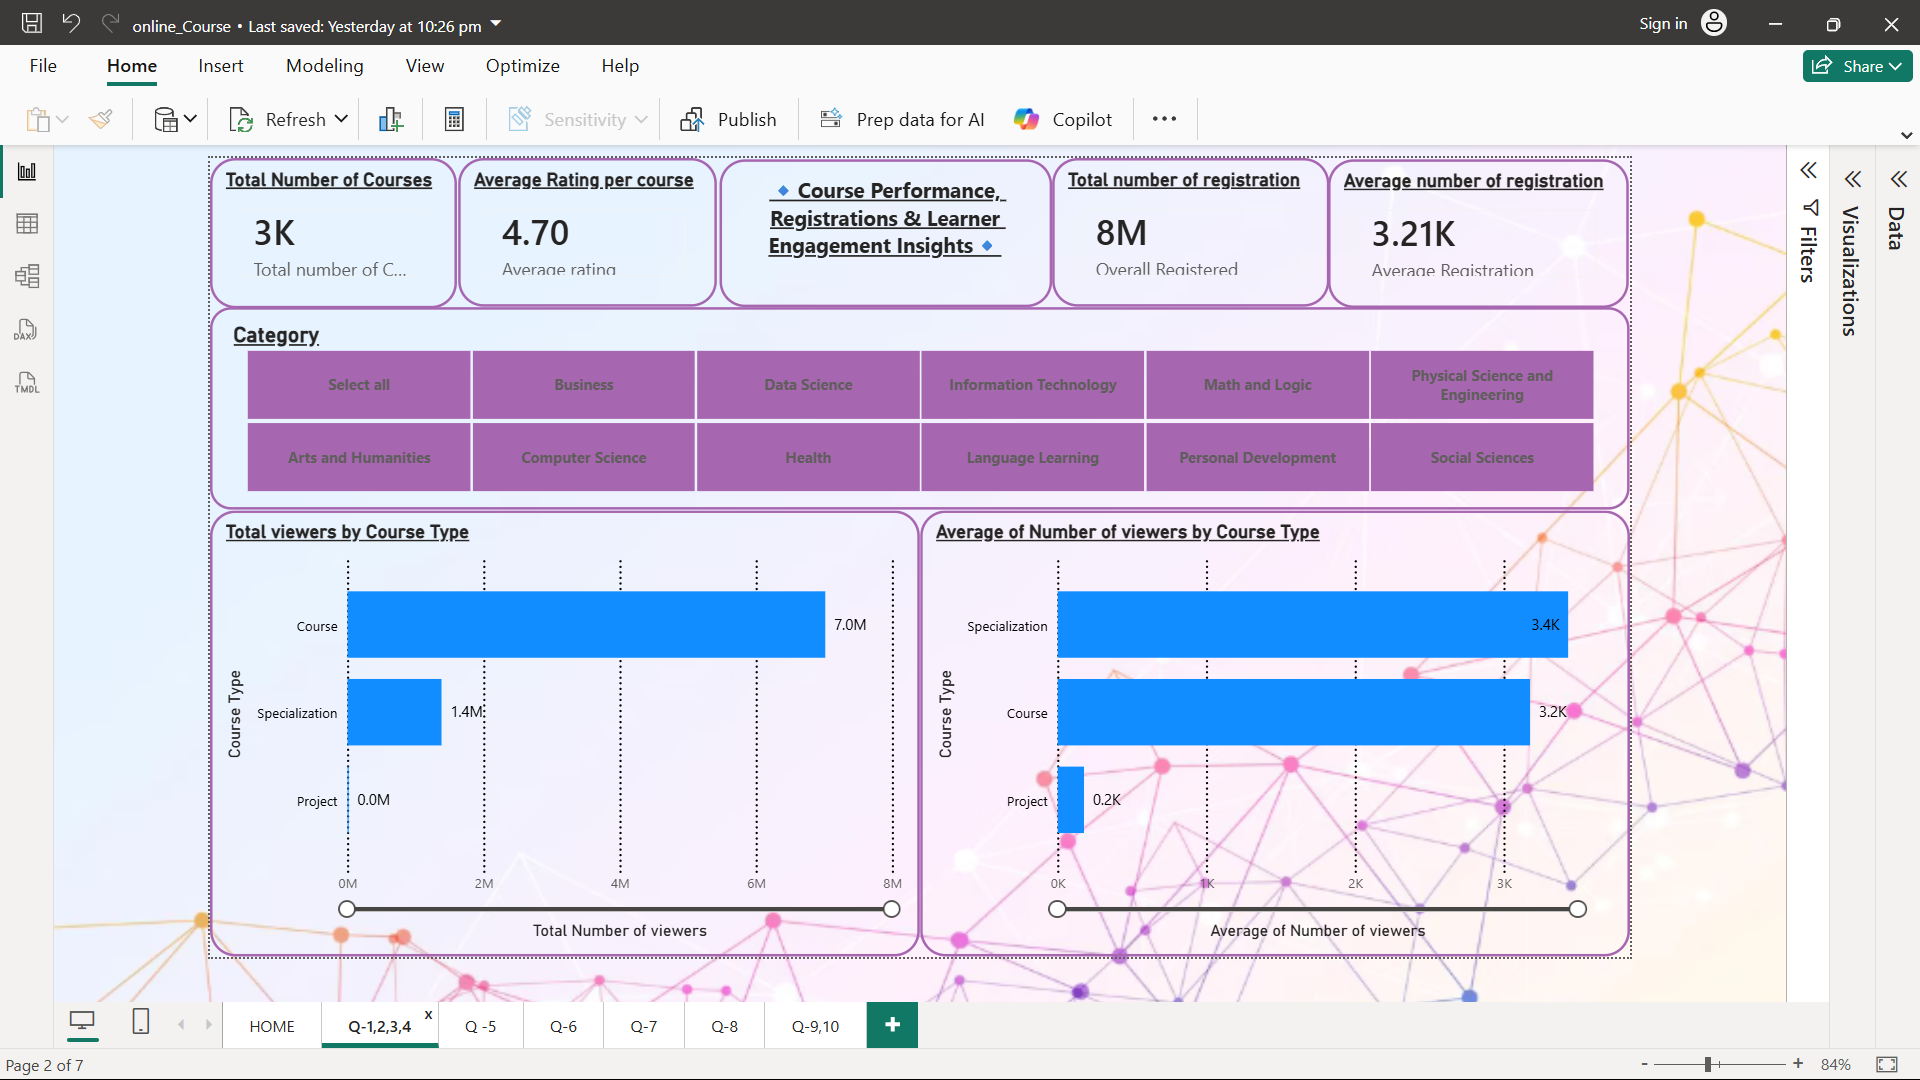

This screenshot's page, from the dashboard's own definition file:
{"tool":"powerbi","page":{"name":"Q-1,2,3,4","canvas":[1280,720],"ordinal":1},"visuals":[{"type":"cardVisual","title":"Total Number of Courses ","fields":{"Data":["Online_Courses (1).Total number od Courses (after cleaning)"]},"box":[0,0,222.9,135.7],"z":0},{"type":"cardVisual","title":"Average Rating per course","fields":{"Data":["Online_Courses (1).Average rating"]},"box":[223.3,0,233.3,134.2],"z":1000},{"type":"cardVisual","title":"Total number of registration ","fields":{"Data":["Online_Courses (1).Overall Registered"]},"box":[759,0,249.7,134.2],"z":2000},{"type":"cardVisual","title":"Average number of registration ","fields":{"Data":["Online_Courses (1).Average Registration"]},"box":[1008.7,1.3,271,134.2],"z":3000},{"type":"barChart","title":"Total viewers by Course Type","fields":{"Y":["Sum(Online_Courses (1).Number of viewers)"],"Category":["Online_Courses (1).Course Type"]},"box":[0,317.5,640,402.5],"z":4000},{"type":"slicer","fields":{"Values":["Online_Courses (1).Category"]},"box":[0,135,1280,182.5],"z":5000},{"type":"clusteredBarChart","fields":{"Category":["Online_Courses (1).Course Type"],"Y":["Avg(Online_Courses (1).Number of viewers)"]},"box":[640,317.5,640,402.5],"z":6000},{"type":"textbox","box":[459.2,1.3,299.8,133],"z":7000}]}

Visuals, with their boxes on the page's 1280x720 design canvas (x1, y1, x2, y2). These are canvas units, not pixel positions in the 1920x1080 screenshot, which may show the page scaled, cropped or inside an application window:
"Total Number of Courses " cardVisual: rect(0, 0, 223, 136)
"Average Rating per course" cardVisual: rect(223, 0, 457, 134)
"Total number of registration " cardVisual: rect(759, 0, 1009, 134)
"Average number of registration " cardVisual: rect(1009, 1, 1280, 136)
"Total viewers by Course Type" barChart: rect(0, 318, 640, 720)
slicer - Online_Courses (1).Category: rect(0, 135, 1280, 318)
clusteredBarChart - Online_Courses (1).Course Type x Avg(Online_Courses (1).Number of viewers): rect(640, 318, 1280, 720)
textbox: rect(459, 1, 759, 134)
